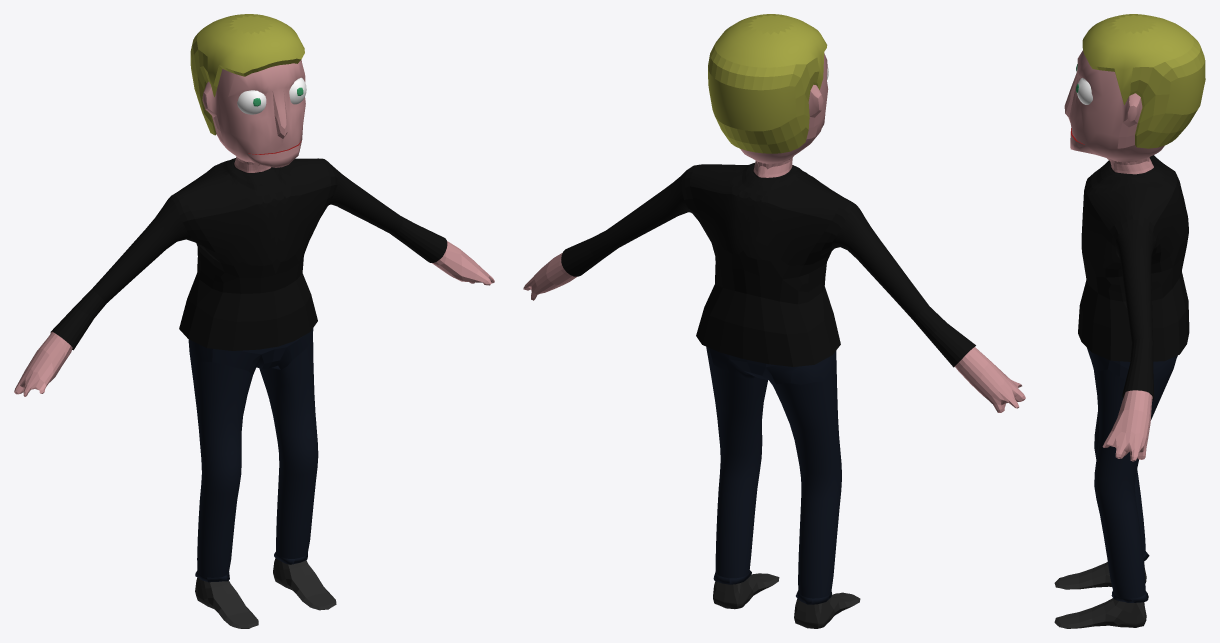
The model's file is NPC3.FBX.
The picture shows the model from 3 angles, left to right: view 1: azimuth 30°, elevation 25°; view 2: azimuth 150°, elevation 25°; view 3: azimuth 270°, elevation 25°; orthographic projection. The views are drawn at different scales.
Parts seen in each view (by area): view 1: Body; view 2: Body; view 3: Body.
Part boxes in pixels (x1=…): Body: x1=14, y1=14, x2=494, y2=628; Body: x1=523, y1=14, x2=1025, y2=628; Body: x1=1054, y1=14, x2=1205, y2=628.
Size of the model in its own units: 159 by 183 by 42.92.
